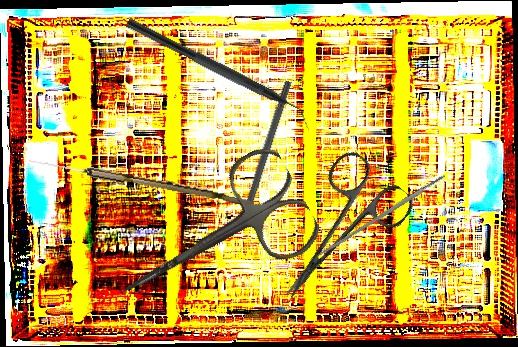Chopper: (119, 18, 319, 132)
Hook Surgical: (229, 79, 293, 249)
Iris Scissors: (93, 140, 327, 340), (251, 145, 419, 323)
Scalpel Handle: (315, 173, 448, 259)
Surgical Spoon: (27, 156, 256, 207)
